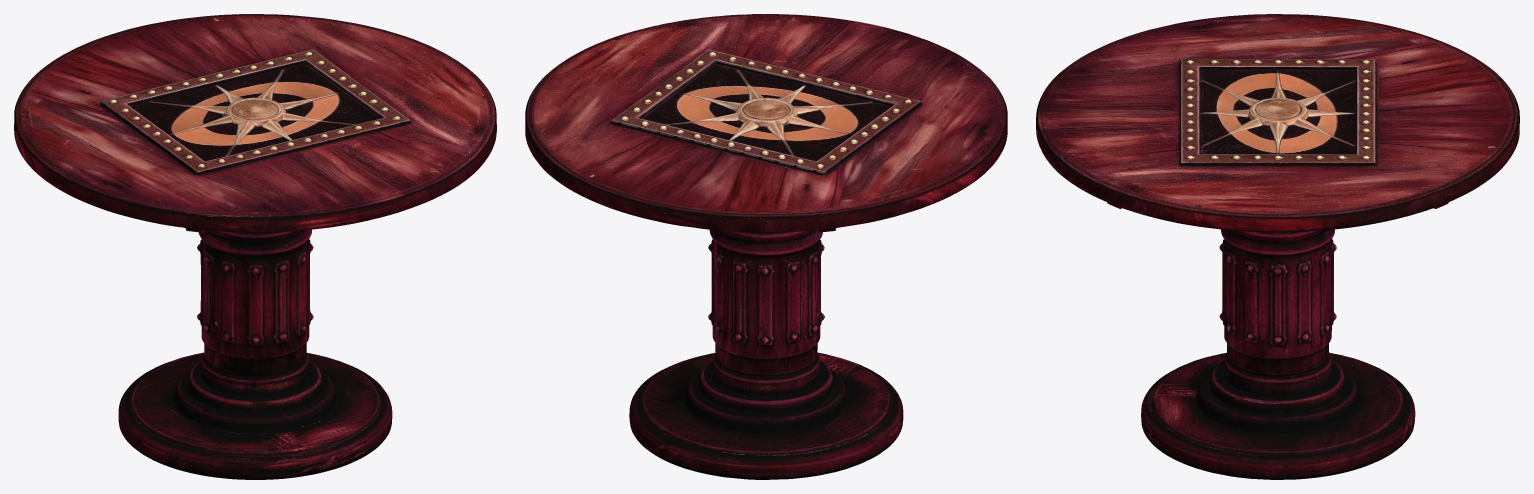
File: desk.glb
The picture shows the model from 3 angles, left to right: view 1: azimuth 30°, elevation 25°; view 2: azimuth 150°, elevation 25°; view 3: azimuth 270°, elevation 25°; orthographic projection.
Visible parts, largest first — view 1: mesh; view 2: mesh; view 3: mesh.
Boxes of the visible parts, x1=… form: mesh: x1=14, y1=14, x2=496, y2=479; mesh: x1=525, y1=14, x2=1007, y2=479; mesh: x1=1036, y1=14, x2=1519, y2=479.
Size of the model in its own units: 2 by 1.44 by 2.
Materials: 1 (1 with a texture image).
